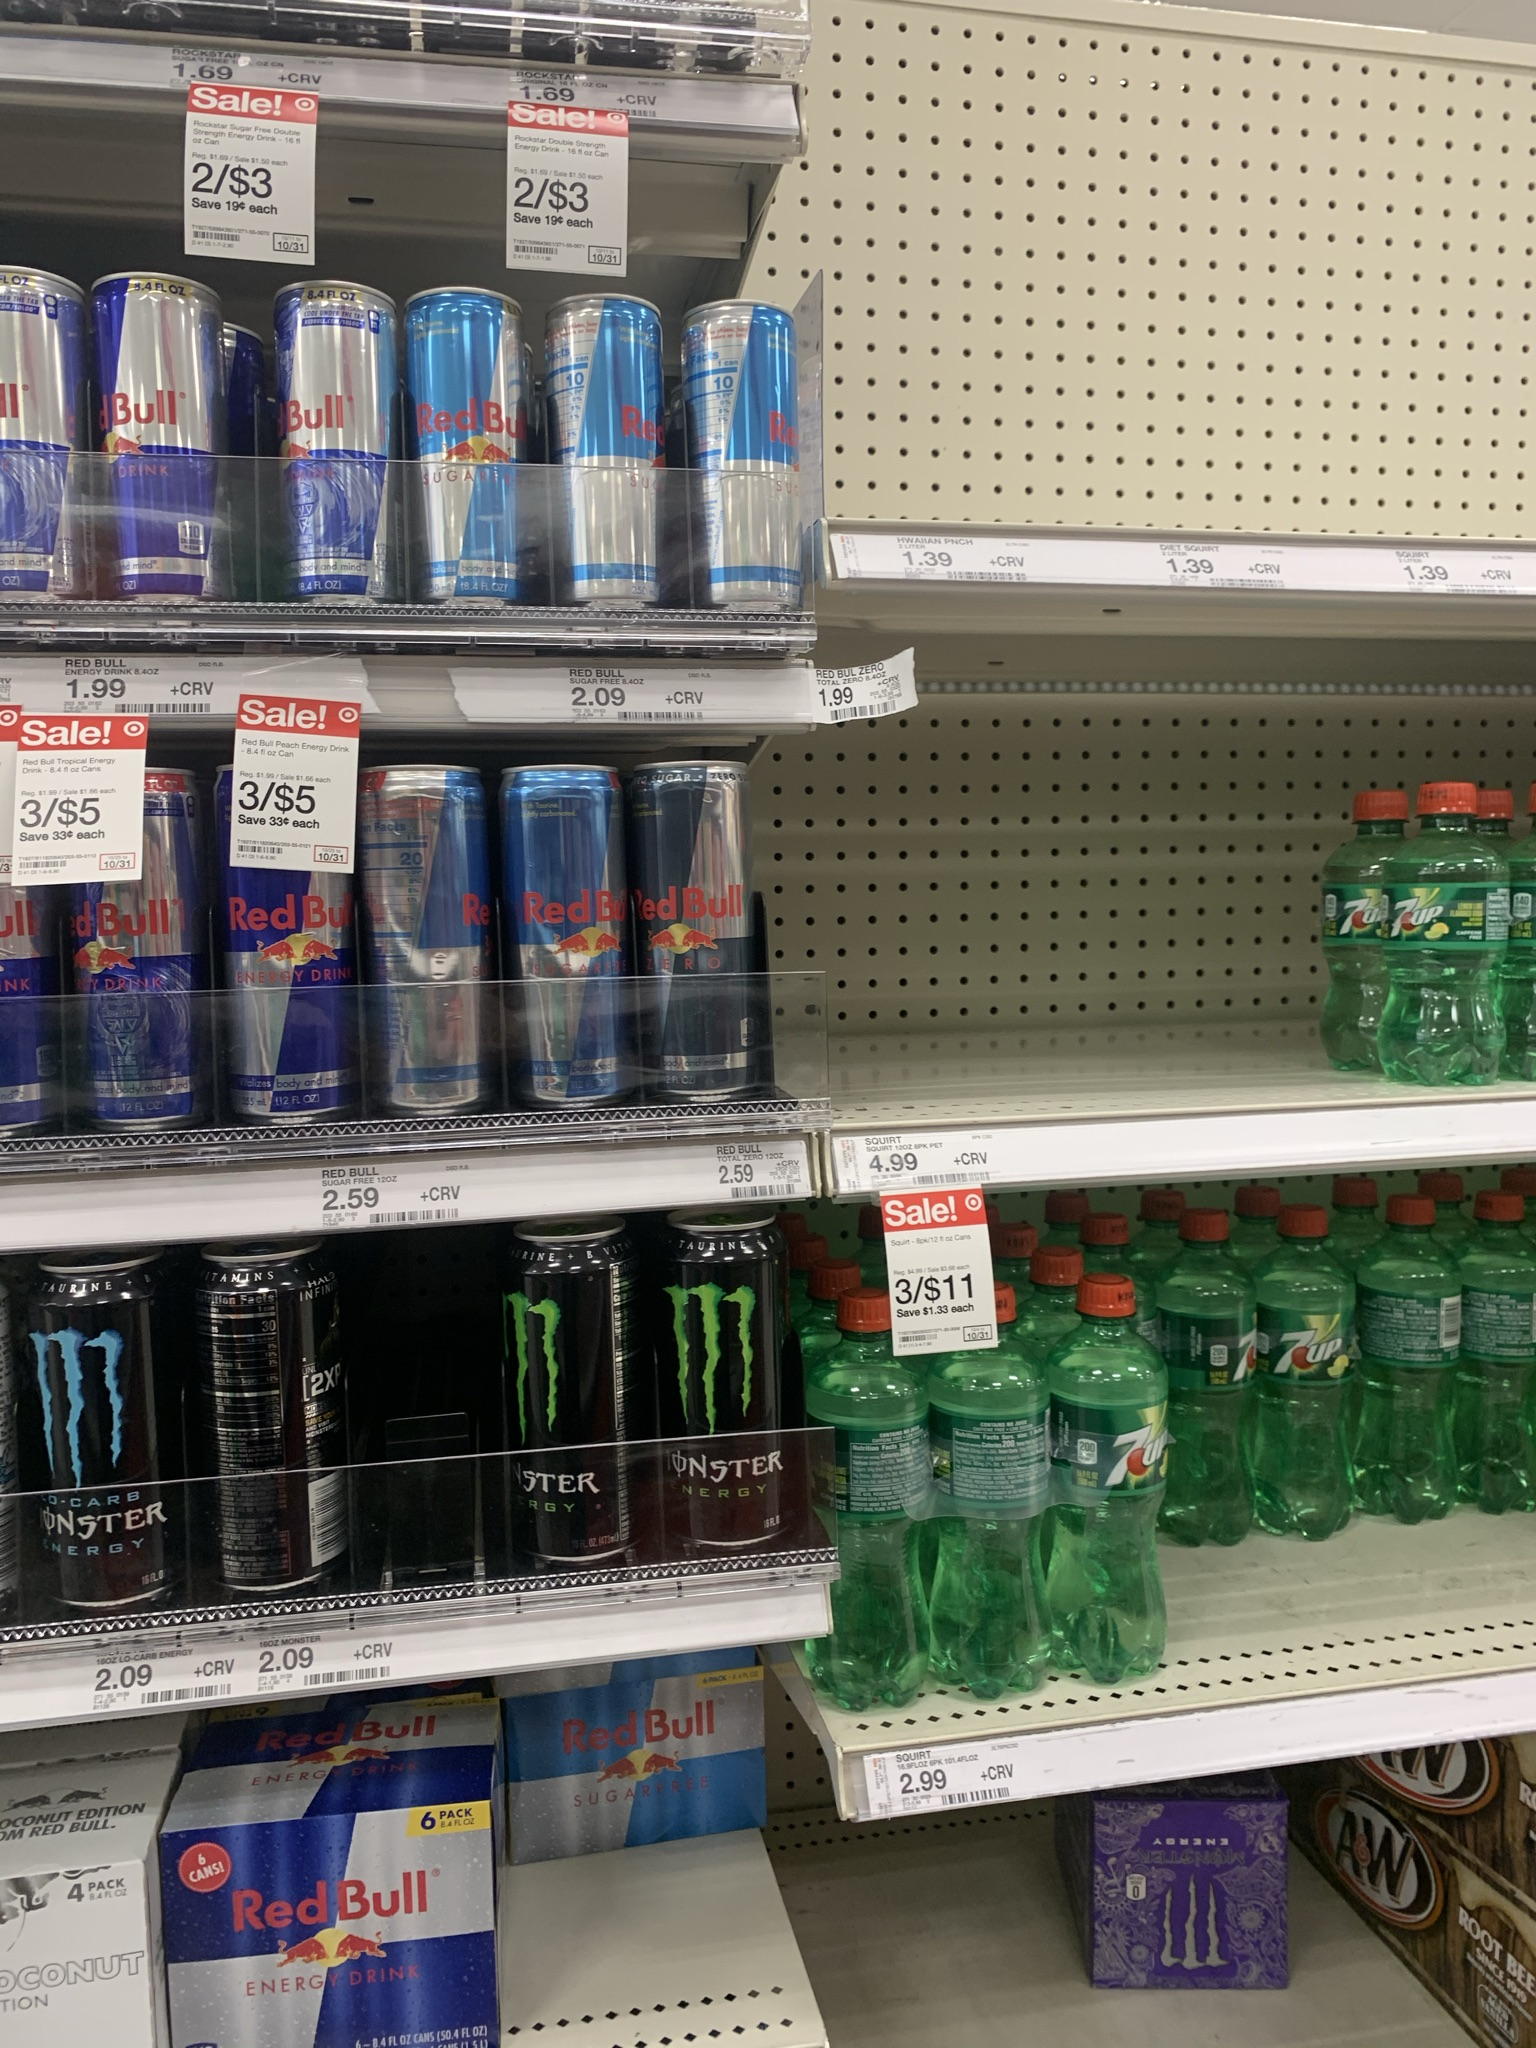7up soda: (829, 1238, 1536, 1619), (1334, 789, 1530, 1071)
monster energy drink: (19, 1269, 839, 1524)
redbull soda: (2, 276, 807, 579), (2, 774, 762, 1061), (161, 1834, 507, 2048)
